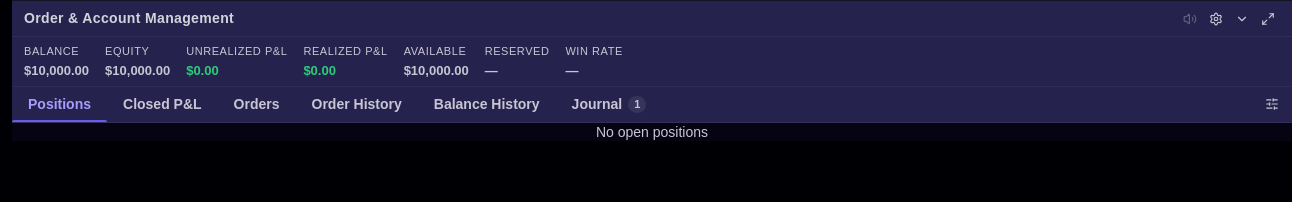
Section 4.8–4.11 — Journal tab › 4.9: profitable close entry shows a "+$X.XX" PnL badge
The width and height of the screenshot is (1292, 202).
Click the button "journal 1" at (609, 104), box [556,87,662,122]
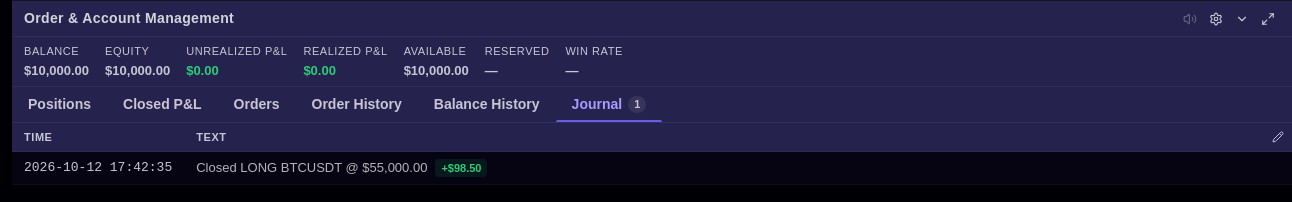
Now the text "+$98.50" is shown, box [435,159,488,177]
